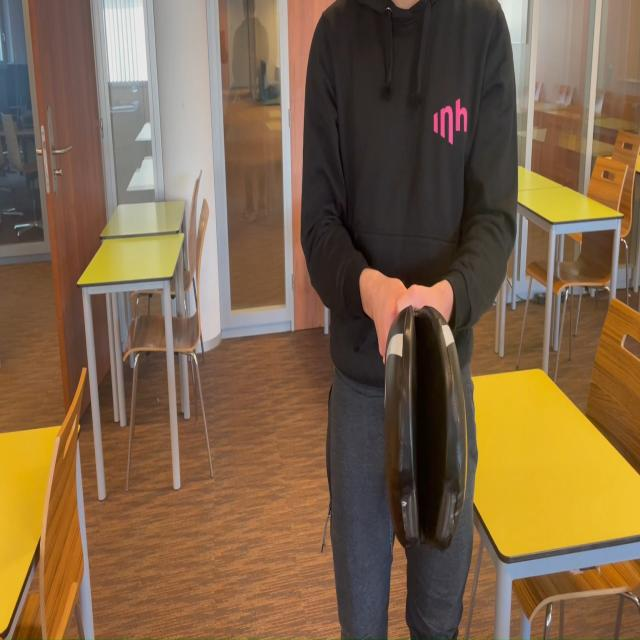paddle: (388, 315, 464, 541)
